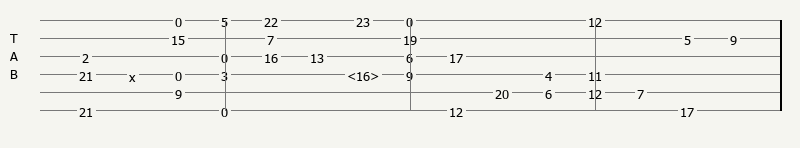0: (175, 68, 186, 81), (175, 14, 186, 27), (221, 104, 232, 117), (221, 50, 232, 63), (406, 14, 417, 27)
11: (588, 68, 606, 81)
12: (449, 104, 467, 117), (588, 14, 606, 27), (588, 86, 606, 99)
13: (310, 50, 328, 63)
15: (171, 32, 189, 45)
16: (264, 50, 282, 63)
17: (449, 50, 467, 63), (680, 104, 698, 117)
19: (403, 32, 421, 45)
2: (82, 50, 93, 63)
20: (495, 86, 513, 99)
21: (79, 104, 97, 117), (79, 68, 97, 81)
22: (264, 14, 282, 27)
23: (356, 14, 374, 27)
3: (221, 68, 232, 81)
4: (545, 68, 556, 81)
5: (221, 14, 232, 27), (684, 32, 695, 45)
6: (406, 50, 417, 63), (545, 86, 556, 99)
7: (267, 32, 278, 45), (637, 86, 648, 99)
9: (175, 86, 186, 99), (406, 68, 417, 81), (730, 32, 741, 45)
harmonic: (347, 68, 383, 81)
x: (129, 69, 140, 80)
